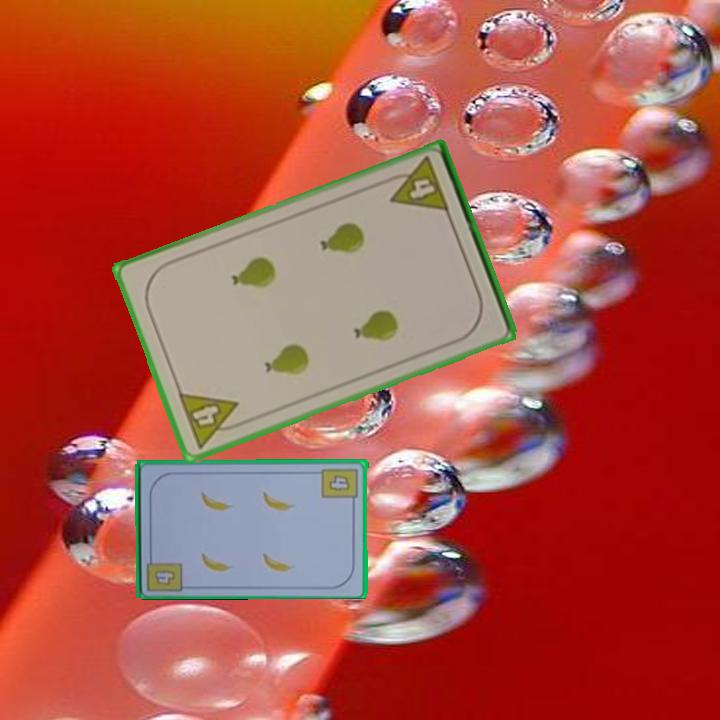4b: (319, 465, 361, 507), (151, 566, 179, 588)
4p: (174, 389, 248, 451), (381, 153, 452, 216)
